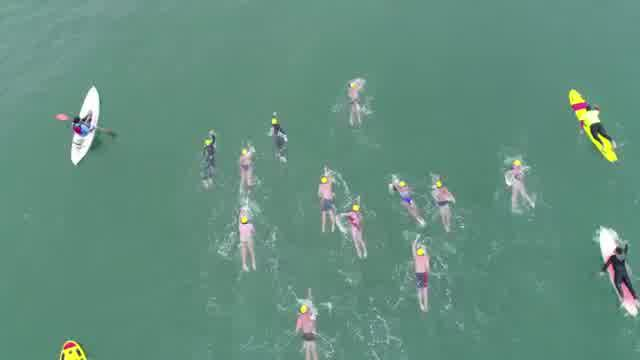human: (407, 228, 438, 318), (294, 290, 324, 358), (346, 197, 372, 262), (390, 175, 424, 224), (505, 159, 529, 216), (431, 178, 455, 234), (234, 211, 254, 276), (195, 129, 217, 187), (317, 172, 338, 232), (268, 108, 288, 160), (236, 142, 257, 191), (348, 77, 362, 129)
